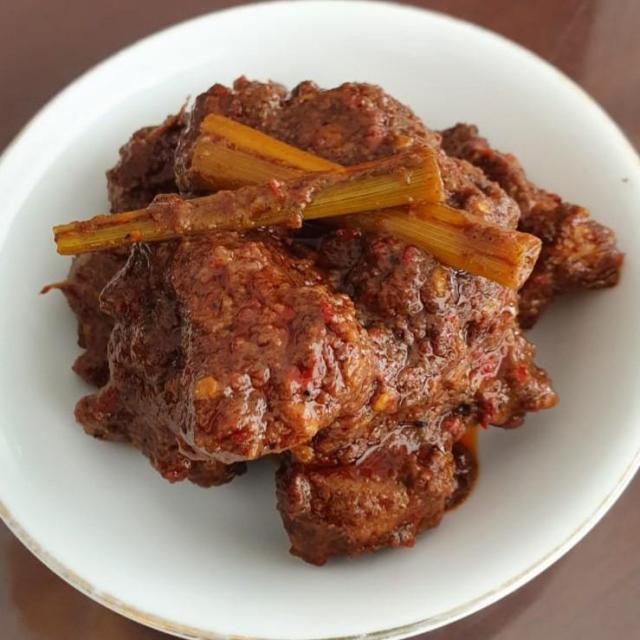Rendang: (62, 73, 626, 592)
